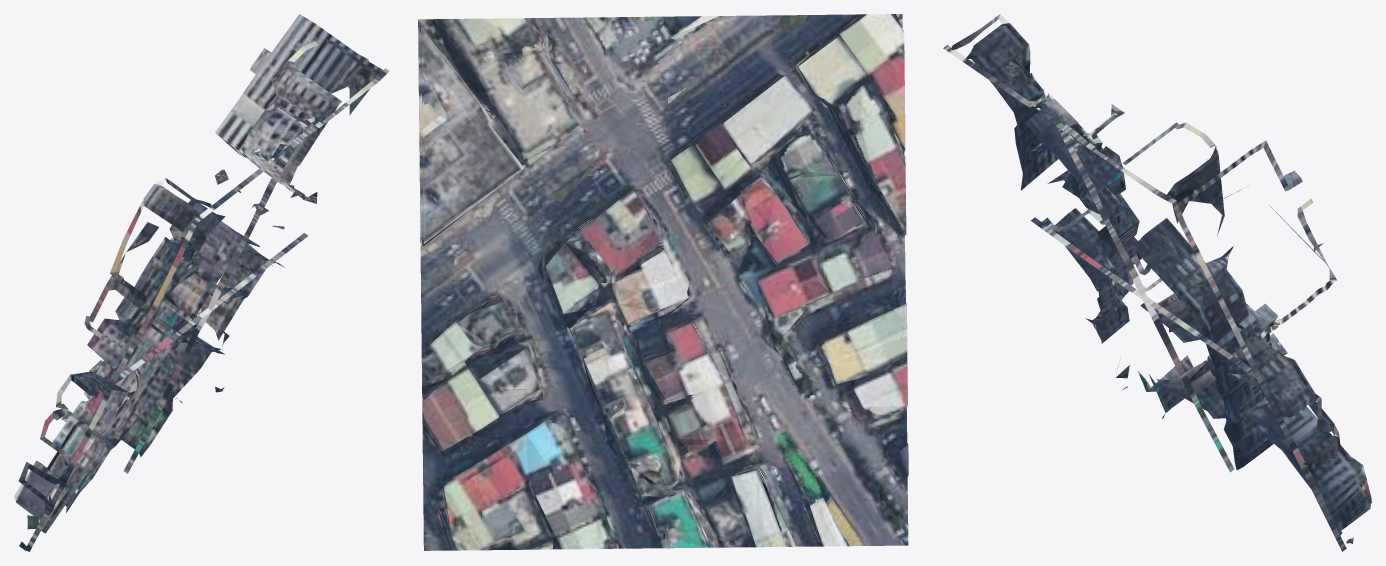
The picture shows the model from 3 angles, left to right: view 1: azimuth 30°, elevation 25°; view 2: azimuth 150°, elevation 25°; view 3: azimuth 270°, elevation 25°; orthographic projection. The views are drawn at different scales.
Size of the model in its own units: 154 by 153 by 137.
1 material, 1 textured.
